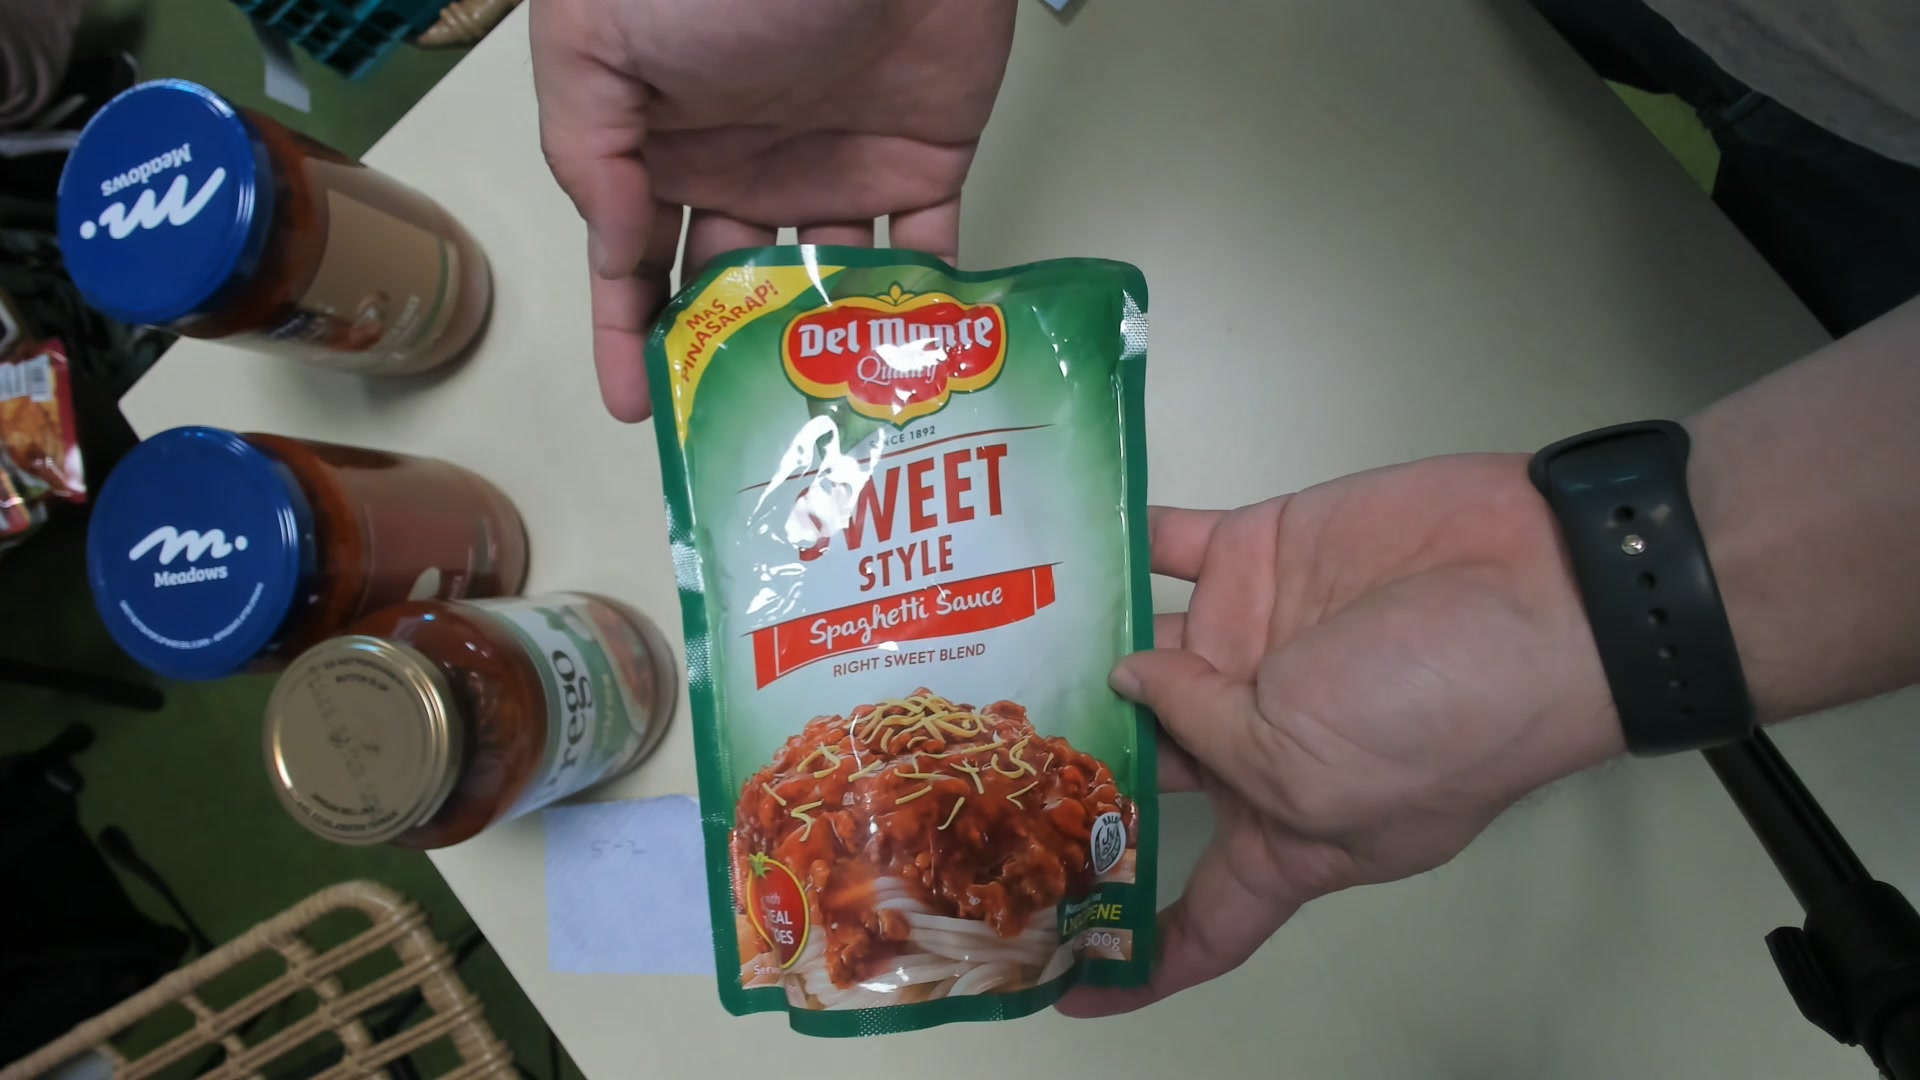PastaSauce_500-599g_Halal_NonHealthy: (663, 249, 1156, 1038)
